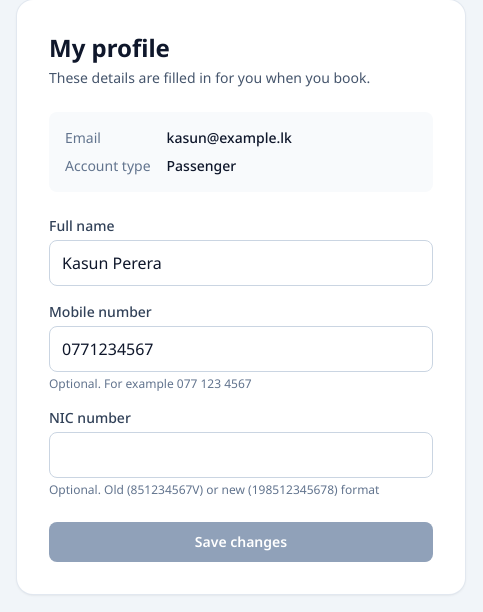
Test: ProfilePage › rejects an invalid NIC
In the field labelled "NIC number": x=241, y=455 top-left (49, 432), bottom-right (433, 478), type "12345"
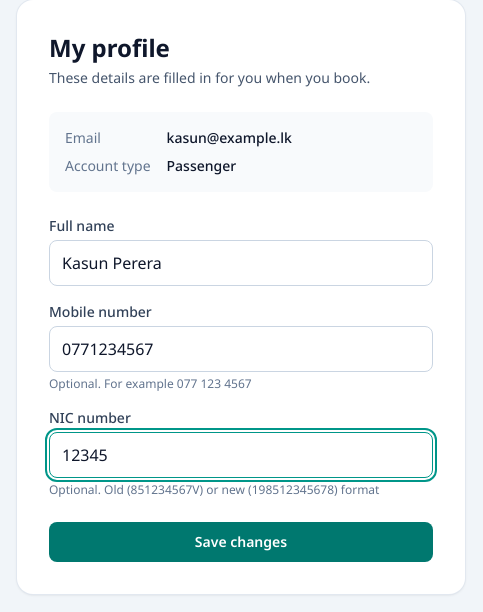
Click the button "Save changes": x=241, y=542 top-left (49, 522), bottom-right (433, 562)
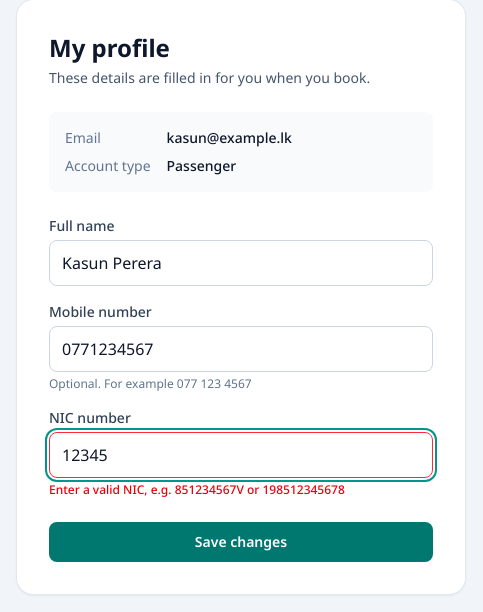
Now the text "Enter a valid NIC, e.g. 851234567V or 198512345678" is shown, box top-left (49, 481), bottom-right (345, 498)
